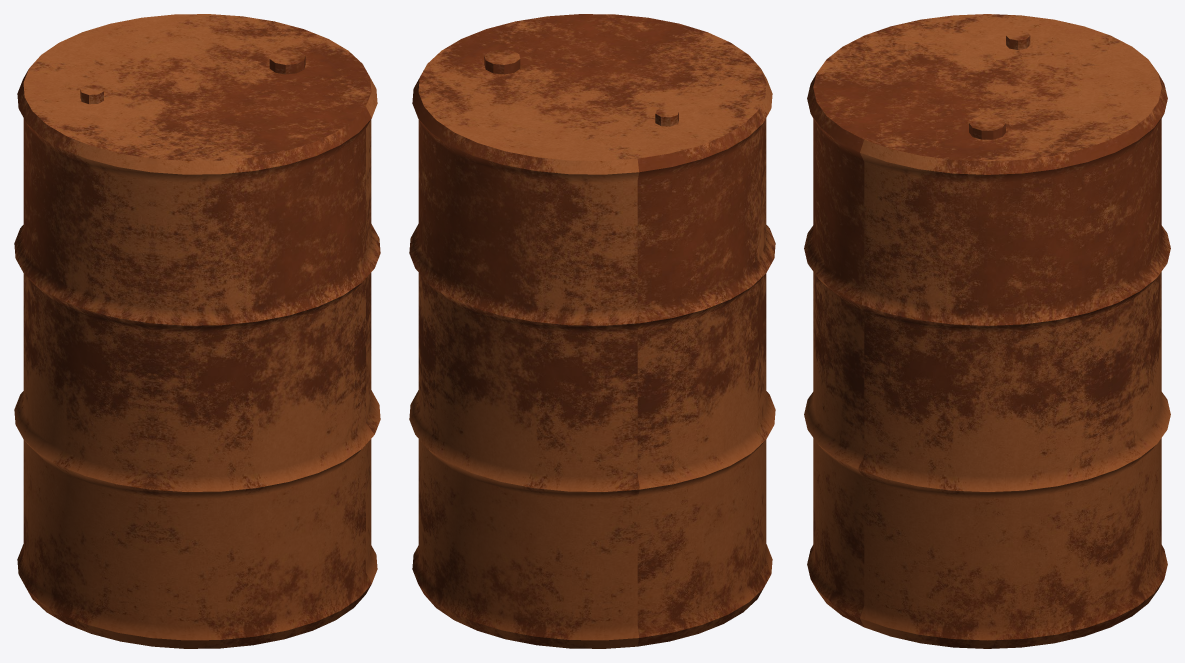
The model's file is prop_drumrust.glb.
3 renders of one model, left to right at view 1: azimuth 30°, elevation 25°; view 2: azimuth 150°, elevation 25°; view 3: azimuth 270°, elevation 25°, orthographic.
Visible parts, largest first — view 1: DrumBody, Bungs; view 2: DrumBody, Bungs; view 3: DrumBody, Bungs.
Part boxes in pixels (x1,y1,x2,y2): DrumBody: (14, 14, 380, 648); Bungs: (80, 49, 305, 104); DrumBody: (409, 14, 775, 648); Bungs: (484, 49, 678, 126); DrumBody: (804, 14, 1170, 648); Bungs: (969, 30, 1030, 139).
Bounding box in the file's own units: 0.6 × 0.895 × 0.6.
Materials: 1 (1 with a texture image).
